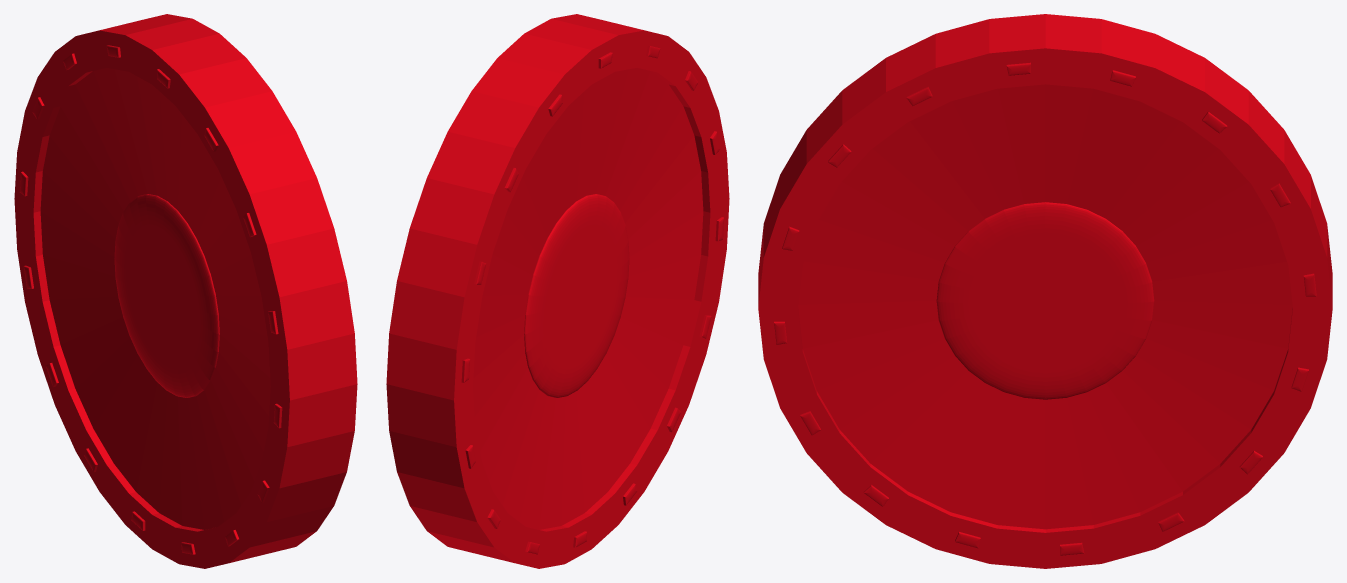
File: c4Red.fbx
3 renders of one model, left to right at view 1: azimuth 30°, elevation 25°; view 2: azimuth 150°, elevation 25°; view 3: azimuth 270°, elevation 25°, orthographic. The views are drawn at different scales.
Visible parts, largest first — view 1: Red Piece; view 2: Red Piece; view 3: Red Piece.
Boxes of the visible parts, box(x1,y1,x2,y2) form: Red Piece: box(14, 14, 357, 568); Red Piece: box(386, 14, 729, 568); Red Piece: box(758, 14, 1332, 568).
Bounding box in the file's own units: 26.06 × 170 × 170.
